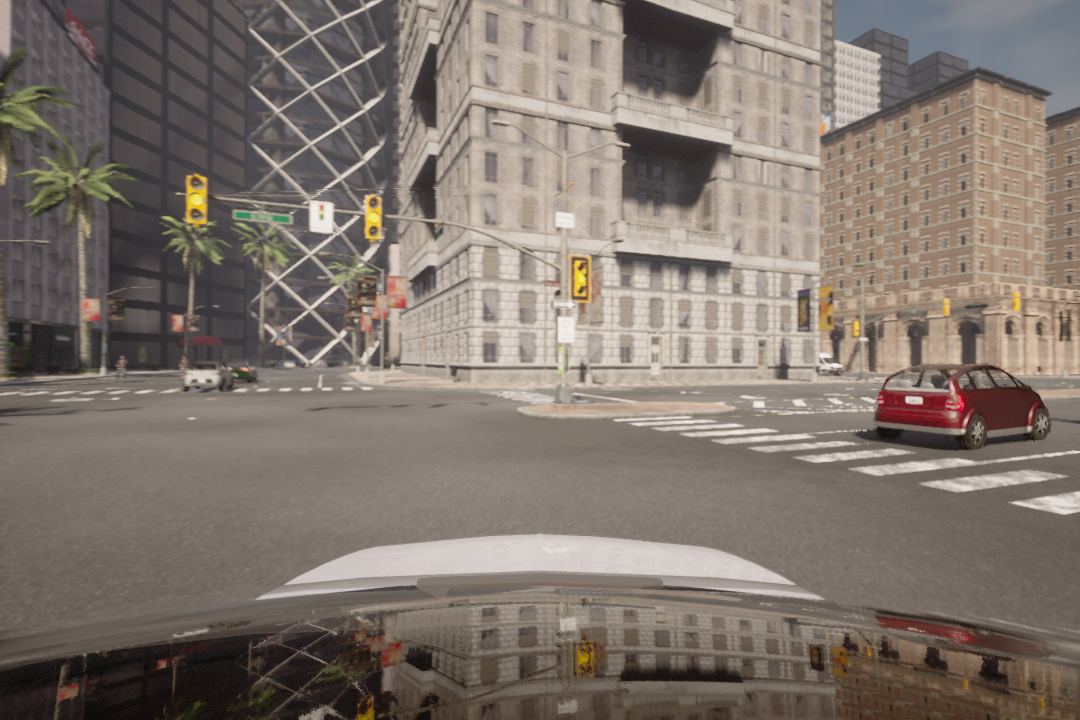TrafficLight: (184, 176, 207, 225), (570, 255, 591, 302), (366, 197, 380, 243)
walkside: (610, 417, 1080, 524), (1, 382, 375, 397)
